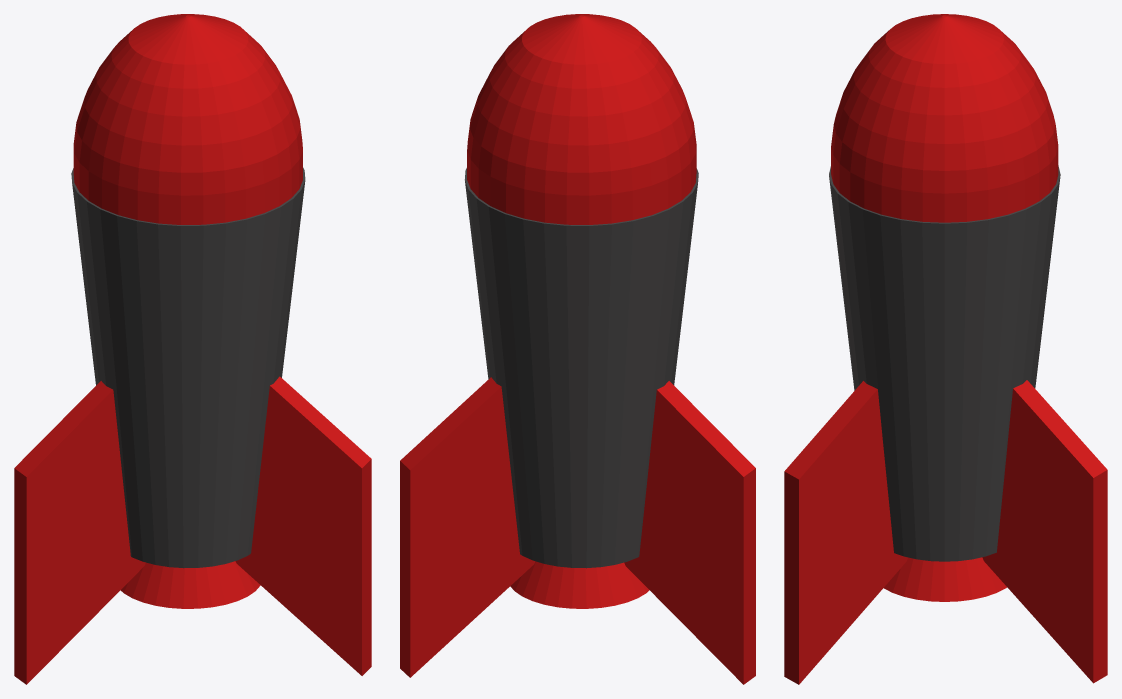
The model's file is Nuke.obj.
The picture shows the model from 3 angles, left to right: view 1: azimuth 30°, elevation 25°; view 2: azimuth 150°, elevation 25°; view 3: azimuth 270°, elevation 25°; orthographic projection.
Visible parts, largest first — view 1: Cylinder, Cylinder.001, Cube.002, Cube, Cone; view 2: Cylinder, Cylinder.001, Cube.001, Cube, Cone; view 3: Cylinder, Cylinder.001, Cube.001, Cube.002, Cone.
Part boxes in pixels (bbox=[...]): Cylinder: bbox=[71, 167, 305, 568]; Cylinder.001: bbox=[73, 14, 302, 224]; Cube.002: bbox=[235, 376, 371, 675]; Cube: bbox=[14, 381, 145, 684]; Cone: bbox=[120, 561, 260, 608]; Cylinder: bbox=[464, 168, 698, 568]; Cylinder.001: bbox=[467, 14, 696, 224]; Cube.001: bbox=[400, 377, 535, 677]; Cube: bbox=[624, 381, 755, 684]; Cone: bbox=[510, 561, 649, 608]; Cylinder: bbox=[829, 165, 1060, 561]; Cylinder.001: bbox=[831, 14, 1058, 222]; Cube.001: bbox=[982, 380, 1107, 683]; Cube.002: bbox=[784, 381, 907, 684]; Cone: bbox=[883, 557, 1006, 601].
Bounding box in the file's own units: 4.29 × 9.2 × 4.38.
